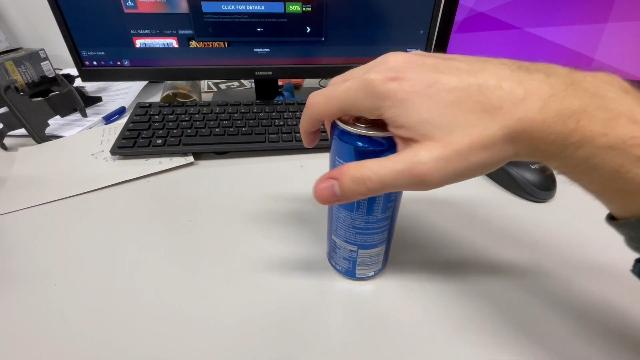Pepsi: (322, 111, 403, 285)
